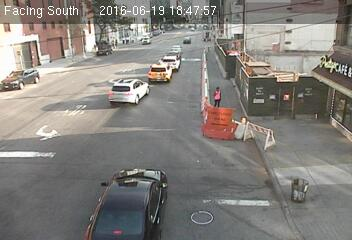neg: (286, 171, 311, 204), (203, 29, 214, 44), (120, 28, 130, 42)
pos: (208, 82, 227, 107)
